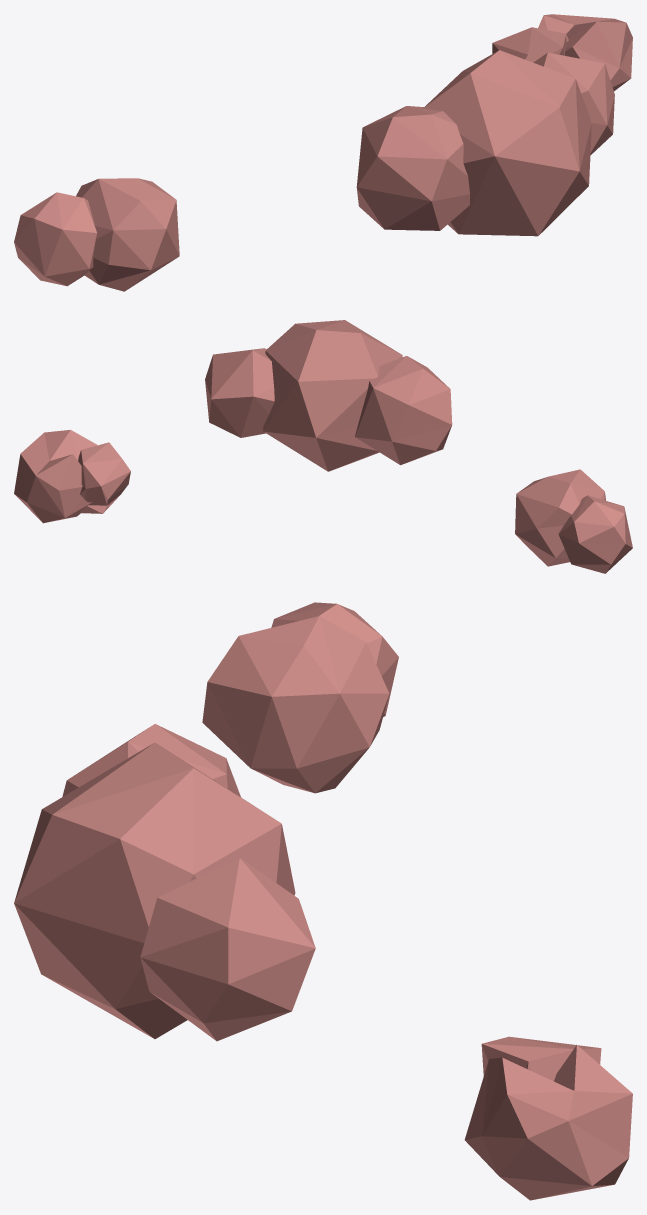
The model's file is island1_cloud.obj.
The picture shows the model from 3 angles, top to bottom: view 1: azimuth 30°, elevation 25°; view 2: azimuth 150°, elevation 25°; view 3: azimuth 270°, elevation 25°; orthographic projection. The views are drawn at different scales.
Visible parts, largest first — view 1: Icosphere.000_Icosphere.005; view 2: Icosphere.000_Icosphere.005; view 3: Icosphere.000_Icosphere.005.
Boxes of the visible parts, <box> form: Icosphere.000_Icosphere.005: <box>14,14,632,291</box>; Icosphere.000_Icosphere.005: <box>14,320,632,573</box>; Icosphere.000_Icosphere.005: <box>14,602,632,1200</box>.
Bounding box in the file's own units: 29.22 × 8.01 × 15.52.
